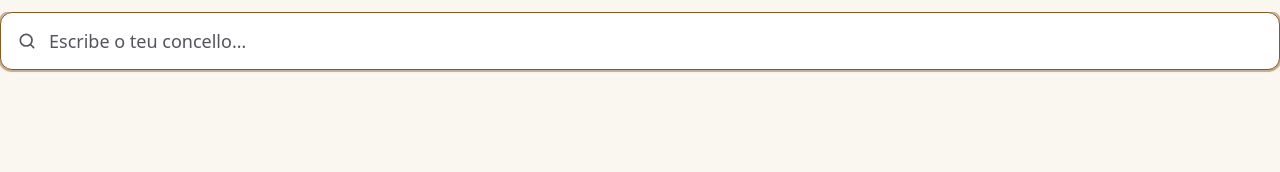
Test case: MunicipalitySearch › falls back to the spanish name in galician
The image size is (1280, 172).
Type "donostia" into the dropdown at (656,41), box [49, 13, 1263, 69]
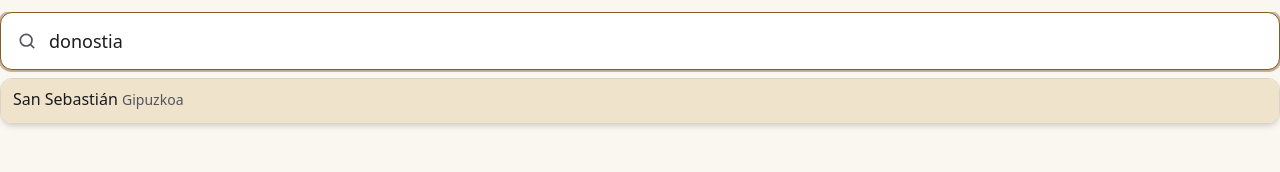
Check: the option does not show "undefined", box [1, 79, 1279, 123]
Check: the option shows "San Sebastián", box [1, 79, 1279, 123]
